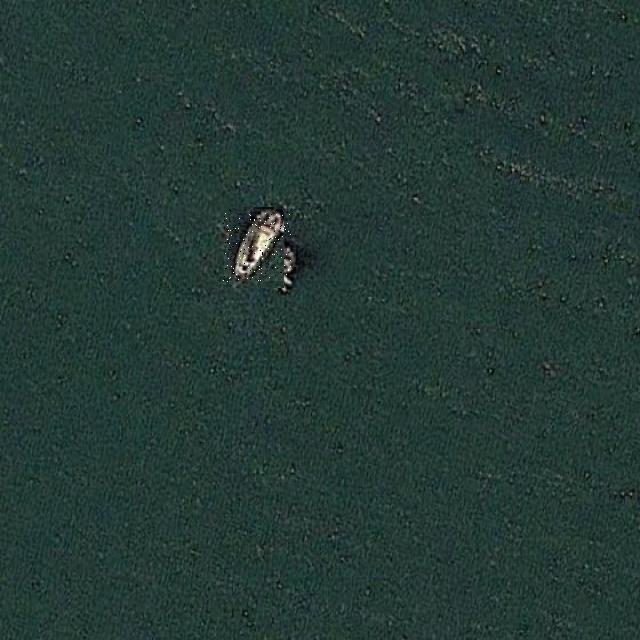boat: (223, 213, 291, 282)
